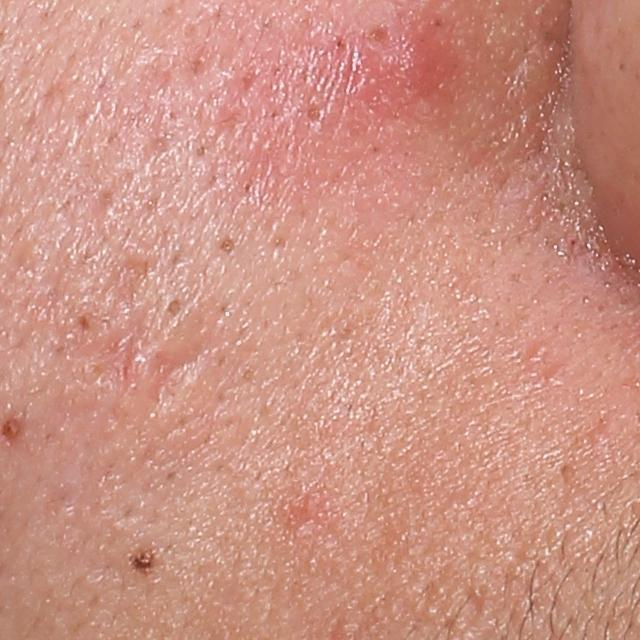atrophic_scar: (135, 329, 234, 413), (100, 254, 158, 311), (281, 485, 323, 539)
comedo: (165, 295, 186, 322), (218, 235, 238, 254)
nevus: (127, 546, 164, 578)
papule: (385, 41, 445, 90)
